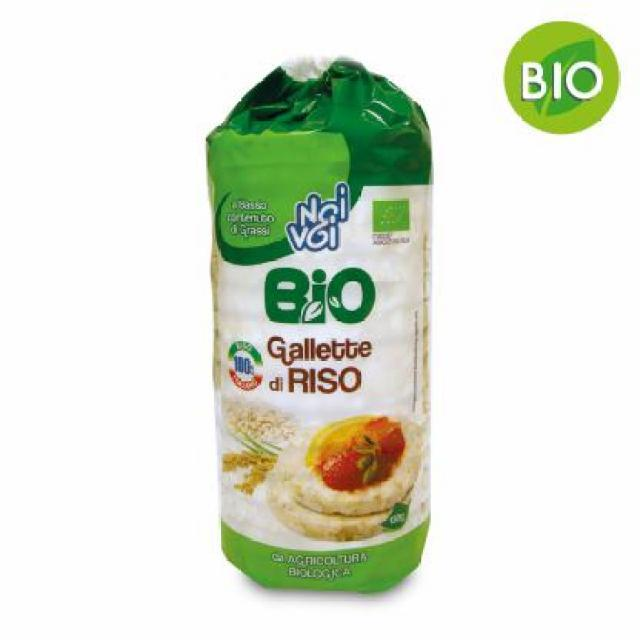Gallette di riso: (189, 53, 446, 604)
